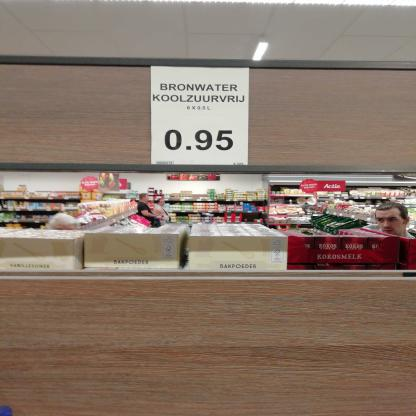prtg: (148, 66, 252, 169)
